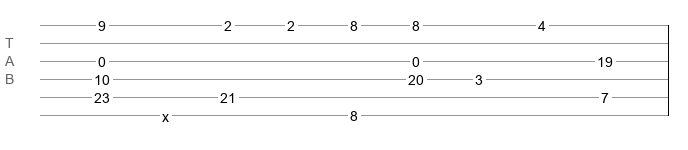0: (98, 54, 106, 64), (412, 54, 420, 64)
10: (94, 72, 110, 82)
19: (597, 54, 613, 64)
2: (224, 18, 232, 28), (287, 18, 295, 28)
20: (408, 72, 424, 82)
21: (220, 90, 236, 100)
23: (94, 90, 110, 100)
3: (475, 72, 483, 82)
4: (538, 18, 546, 28)
7: (601, 90, 609, 100)
8: (350, 108, 358, 118), (350, 18, 358, 28), (412, 18, 420, 28)
9: (98, 18, 106, 28)
x: (162, 109, 169, 117)
